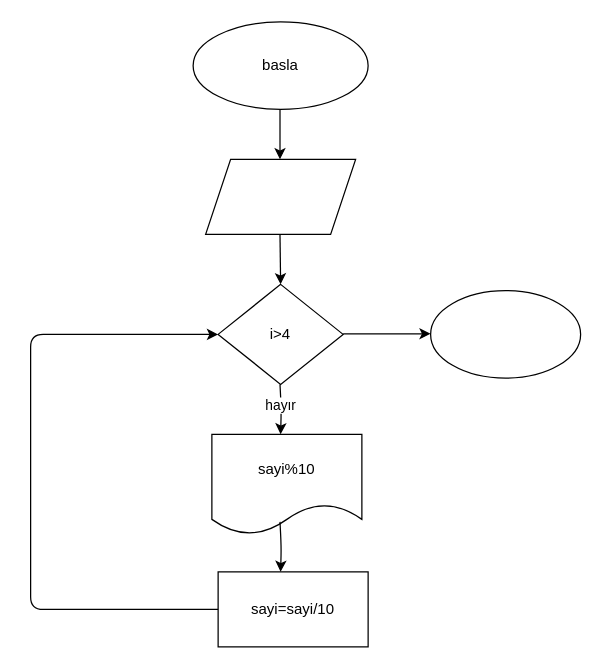
Some shapes in this 603 by 669 pixel diagram are drawn without their labels. The shapes that lost their labels are listed below. From the top down, each one's centre as x and y in pixels, then its label:
At [280,196]: "sayi".
At [505,333]: "bitiş".
